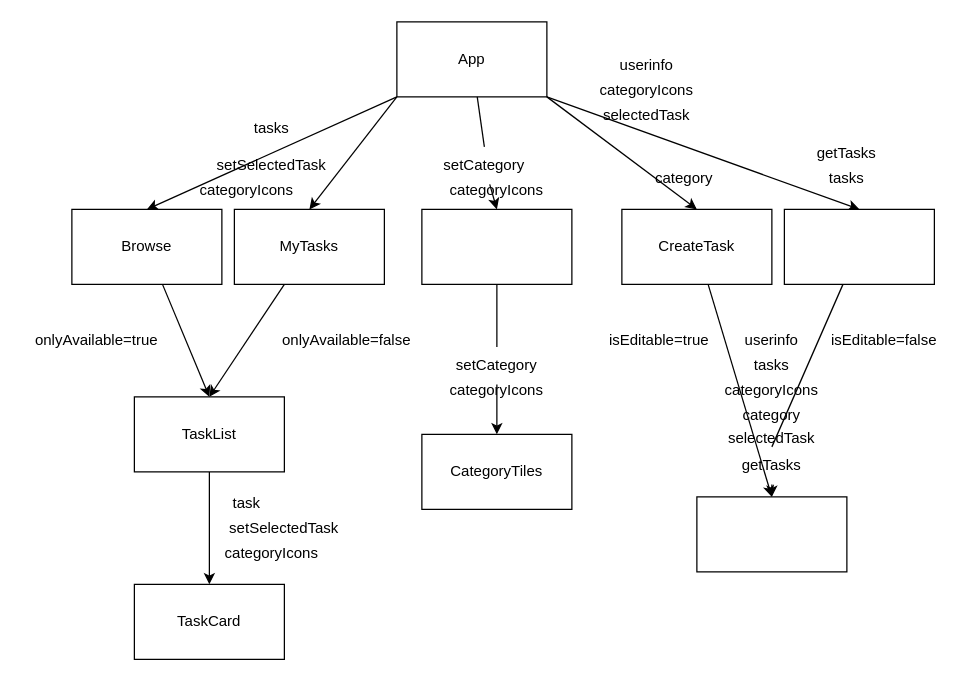
This 980x681 diagram has some shape labels left out. The centre of each missing label's shape, as x and y in pixels:
SelectCategory: point (496, 246)
TaskInfo: point (771, 534)
ViewTask: point (858, 246)
